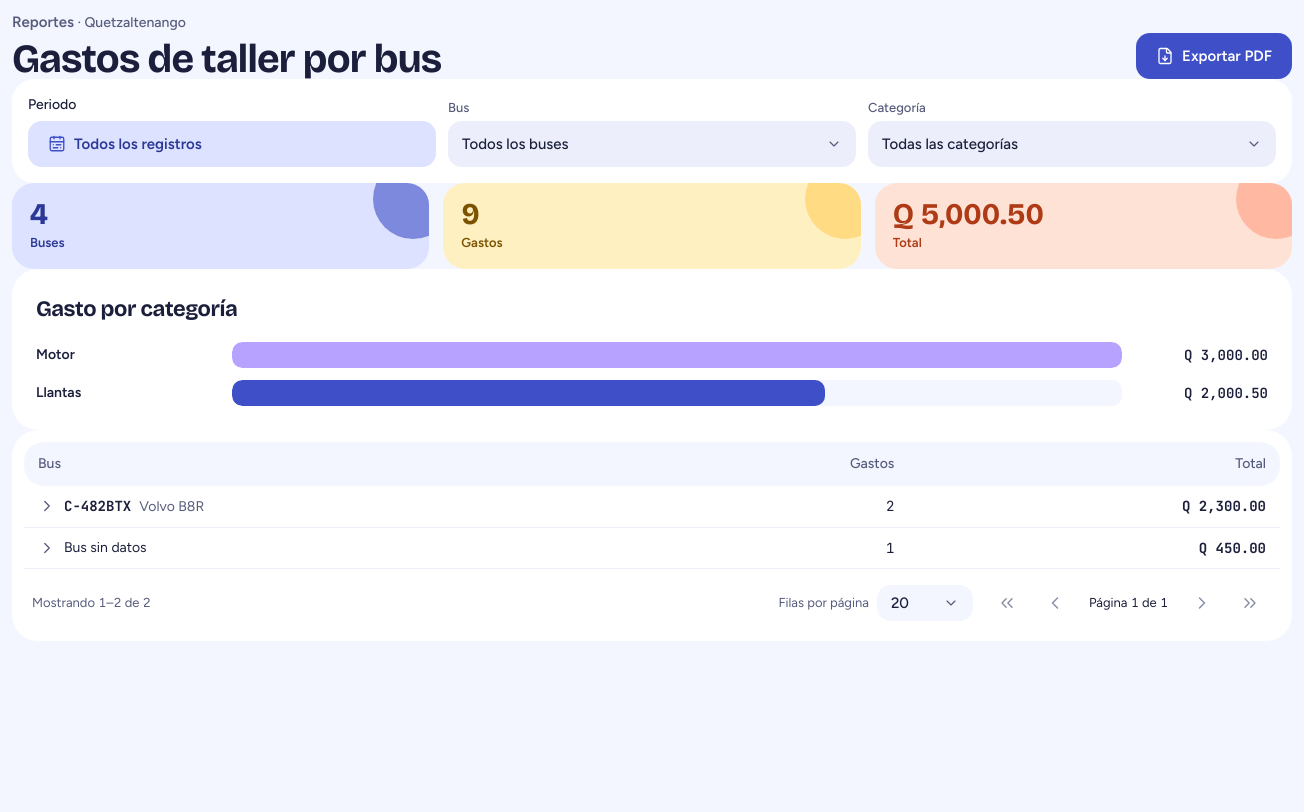
Scenario: RepairReport › opens a bus to show its categories, with the lines and the subtotal of each
Click the button "C-482BTX Volvo B8R". click: (121, 506)
box: [38,496,204,517]
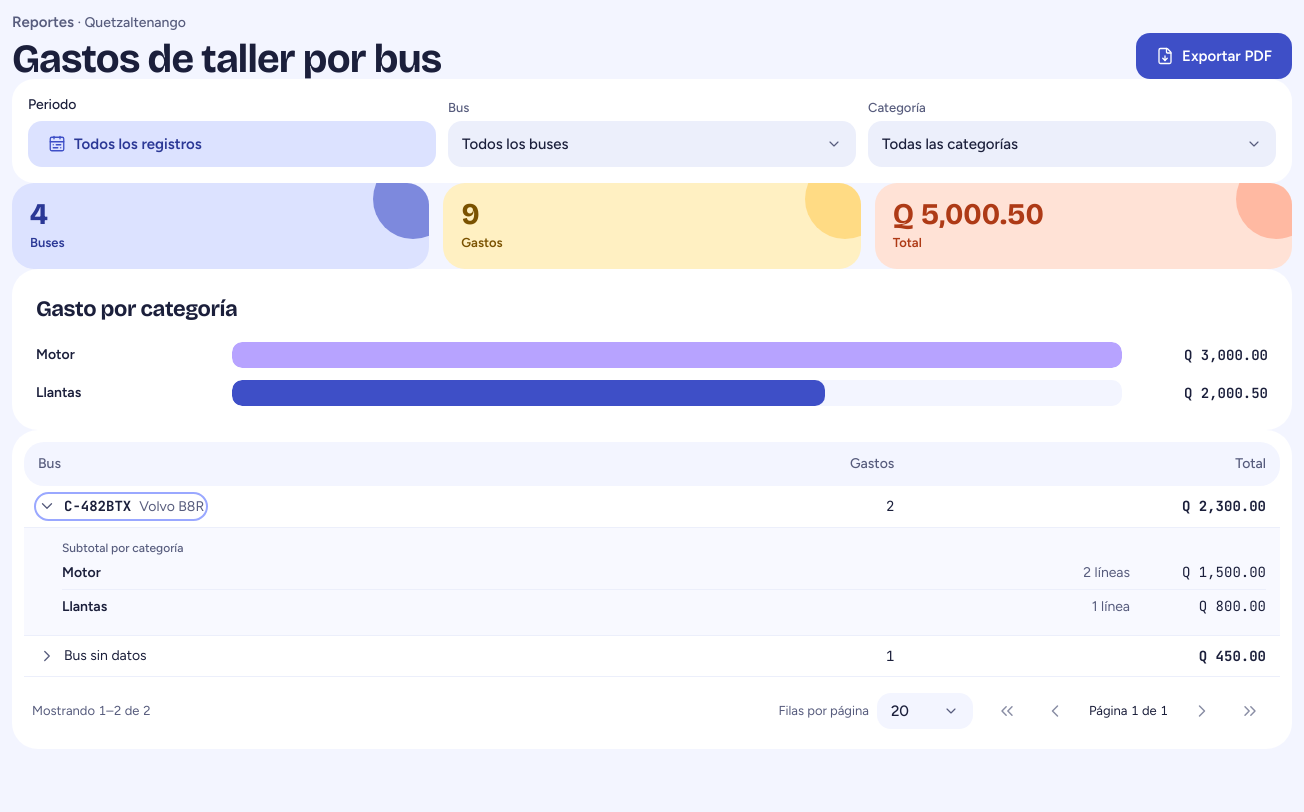
Now the button "C-482BTX Volvo B8R" is expanded
Now the text "Motor" next to "2 líneas" is shown, box [62,564,101,581]
Now the text "2 líneas" is shown, box [1083,563,1130,583]
Click the button "C-482BTX Volvo B8R". click: (121, 506)
box: [38,496,204,517]
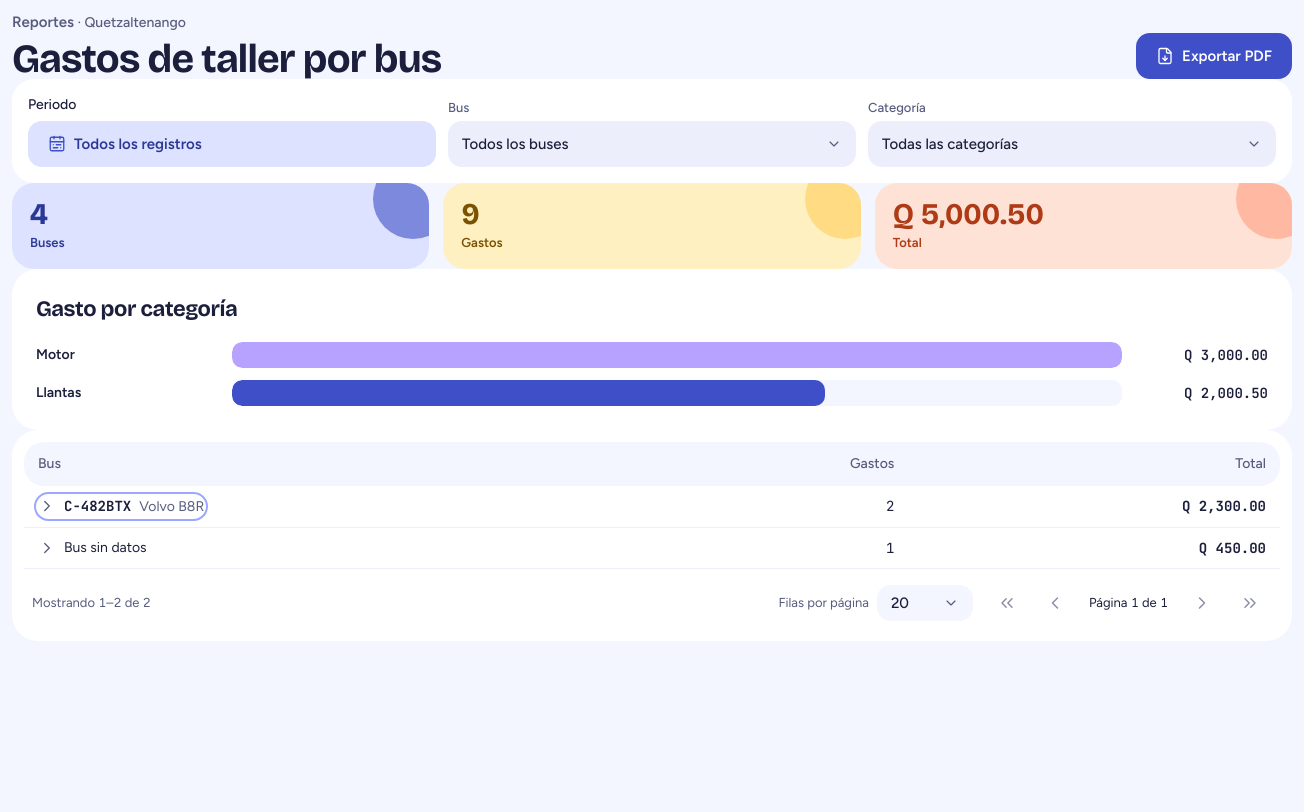
Now the button "C-482BTX Volvo B8R" is collapsed, box [38,496,204,517]
